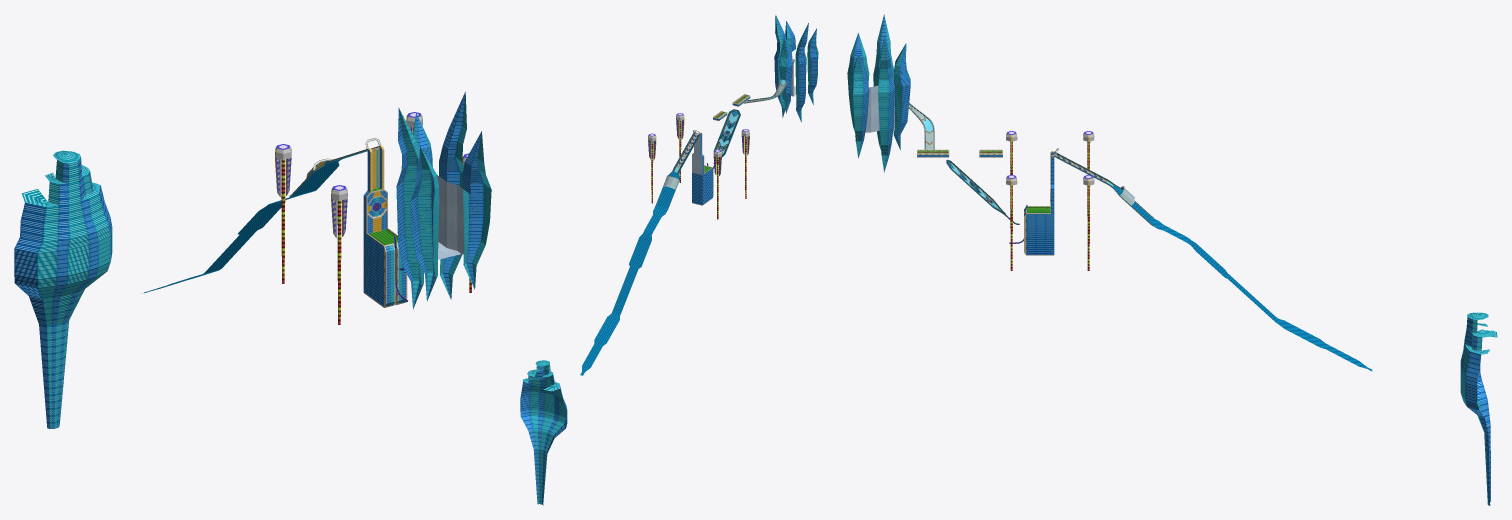
Rendered from Bingo_highway_3.obj.
3 renders of one model, left to right at view 1: azimuth 30°, elevation 25°; view 2: azimuth 150°, elevation 25°; view 3: azimuth 270°, elevation 25°, orthographic. The views are drawn at different scales.
Visible parts, largest first — view 1: obj2, Object_2; view 2: obj2, Object_2; view 3: obj2, Object_2.
Part boxes in pixels (x1,y1,x2,y2): obj2: (14,91,491,428); Object_2: (281,127,471,324); obj2: (520,15,818,505); Object_2: (651,110,746,219); obj2: (847,14,1497,505); Object_2: (948,141,1124,270).
Bounding box in the file's own units: 1810 × 6554 × 8435.
